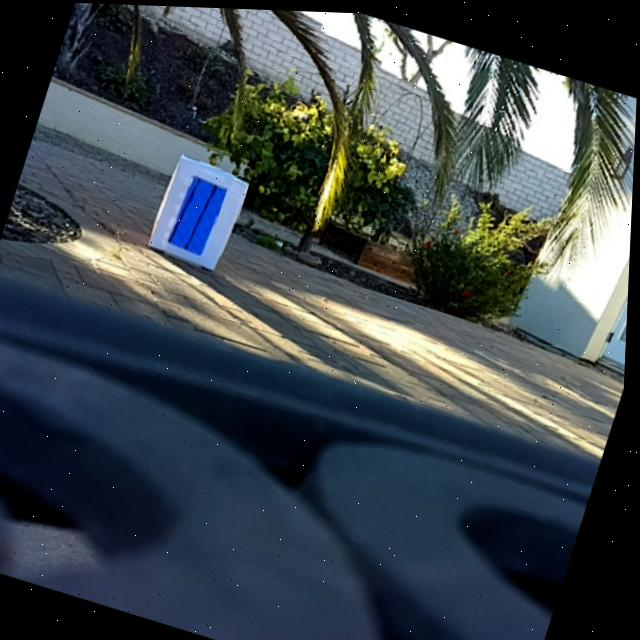led: (170, 172, 231, 257)
